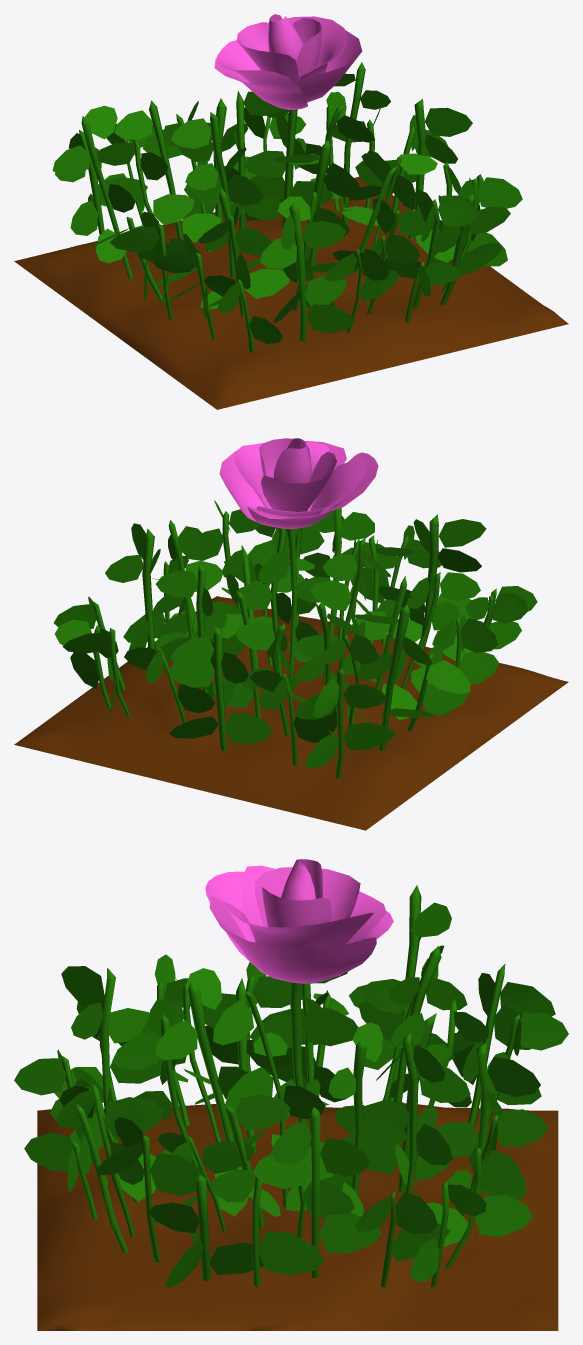
The model's file is pink-rose-p2-bloom.glb.
The picture shows the model from 3 angles, top to bottom: view 1: azimuth 30°, elevation 25°; view 2: azimuth 150°, elevation 25°; view 3: azimuth 270°, elevation 25°; orthographic projection. The views are drawn at different scales.
Visible parts, largest first — view 1: 2_nft_bloom; view 2: 2_nft_bloom; view 3: 2_nft_bloom.
Boxes of the visible parts, x1,y1,x2,y2 form: 2_nft_bloom: [14, 14, 568, 409]; 2_nft_bloom: [14, 438, 568, 830]; 2_nft_bloom: [14, 859, 568, 1330].
Bounding box in the file's own units: 0.751 × 0.5266 × 0.7455.
